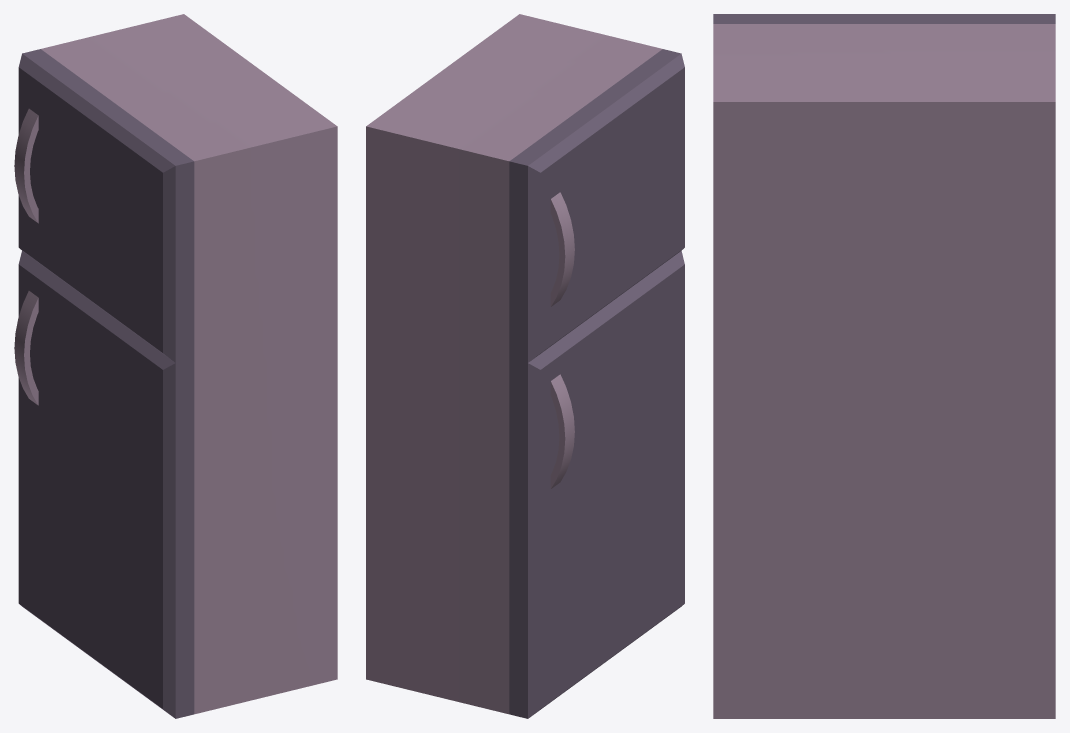
Rendered from _ridge.fbx.
3 views of the same model, side by side, from view 1: azimuth 30°, elevation 25°; view 2: azimuth 150°, elevation 25°; view 3: azimuth 270°, elevation 25° (orthographic). The views are drawn at different scales.
Parts seen in each view (by area): view 1: Body, Fridge_Door, Freezer_Door, Fridge_Handle, Freezer_Handle; view 2: Body, Fridge_Door, Freezer_Door, Fridge_Handle, Freezer_Handle; view 3: Body, Freezer_Door.
Boxes of the visible parts, bbox=[...] form: Body: bbox=[41, 14, 337, 714]; Fridge_Door: bbox=[18, 251, 194, 718]; Freezer_Door: bbox=[18, 49, 194, 362]; Fridge_Handle: bbox=[14, 291, 38, 405]; Freezer_Handle: bbox=[14, 108, 38, 223]; Body: bbox=[366, 14, 662, 714]; Fridge_Door: bbox=[509, 251, 684, 718]; Freezer_Door: bbox=[509, 49, 684, 362]; Fridge_Handle: bbox=[550, 374, 574, 488]; Freezer_Handle: bbox=[550, 192, 574, 306]; Body: bbox=[713, 24, 1055, 718]; Freezer_Door: bbox=[713, 14, 1055, 23].
Bounding box in the file's own units: 0.015 × 0.0431 × 0.0217.
